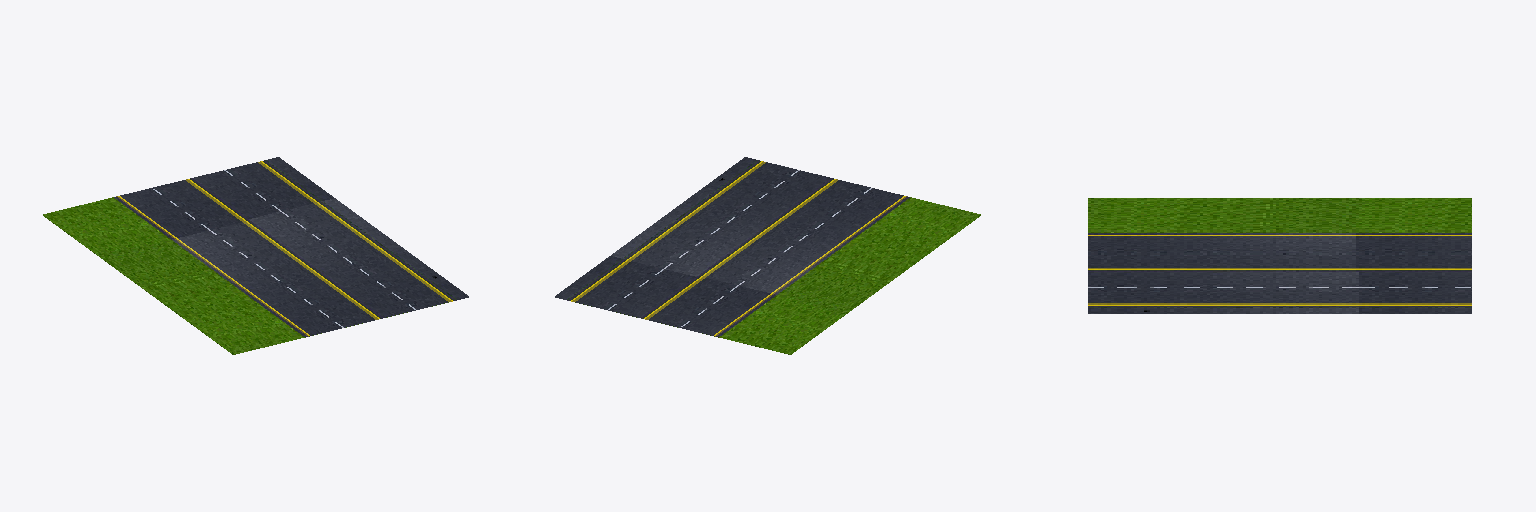
The picture shows the model from 3 angles: view 1: azimuth 30°, elevation 25°; view 2: azimuth 150°, elevation 25°; view 3: azimuth 270°, elevation 25°; orthographic projection.
Parts seen in each view (by area): view 1: roadModel_NoTex:pCube1; view 2: roadModel_NoTex:pCube1; view 3: roadModel_NoTex:pCube1.
Part boxes in pixels (x1,y1,x2,y2): roadModel_NoTex:pCube1: (43, 157, 468, 354); roadModel_NoTex:pCube1: (555, 157, 980, 354); roadModel_NoTex:pCube1: (1088, 198, 1471, 313).
Bounding box in the file's own units: 20 × 0.01 × 28.
1 materials, 1 textured.